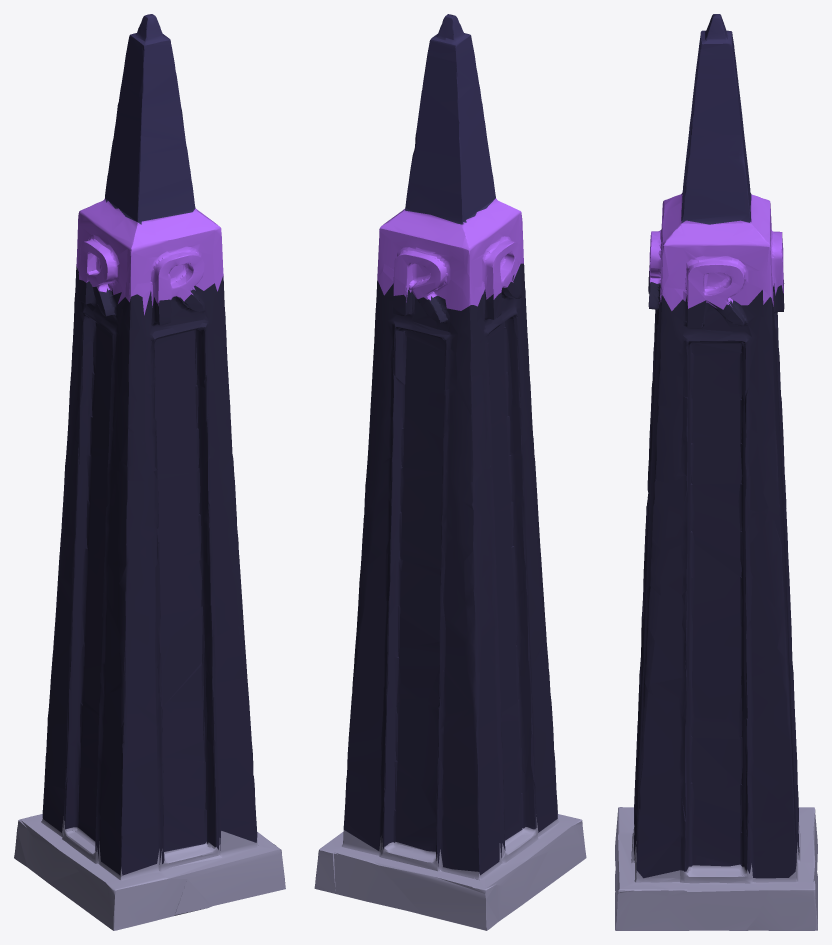
The model's file is landmark_tower.fbx.
3 views of the same model, side by side, from view 1: azimuth 30°, elevation 25°; view 2: azimuth 150°, elevation 25°; view 3: azimuth 270°, elevation 25° (orthographic).
Parts seen in each view (by area): view 1: landmark_tower; view 2: landmark_tower; view 3: landmark_tower.
Boxes of the visible parts, left/top/right/bottom form: landmark_tower: left=14, top=14, right=285, bottom=930; landmark_tower: left=314, top=14, right=586, bottom=930; landmark_tower: left=615, top=14, right=817, bottom=930.
Size of the model in its own units: 0.4001 by 1.9 by 0.4001.
